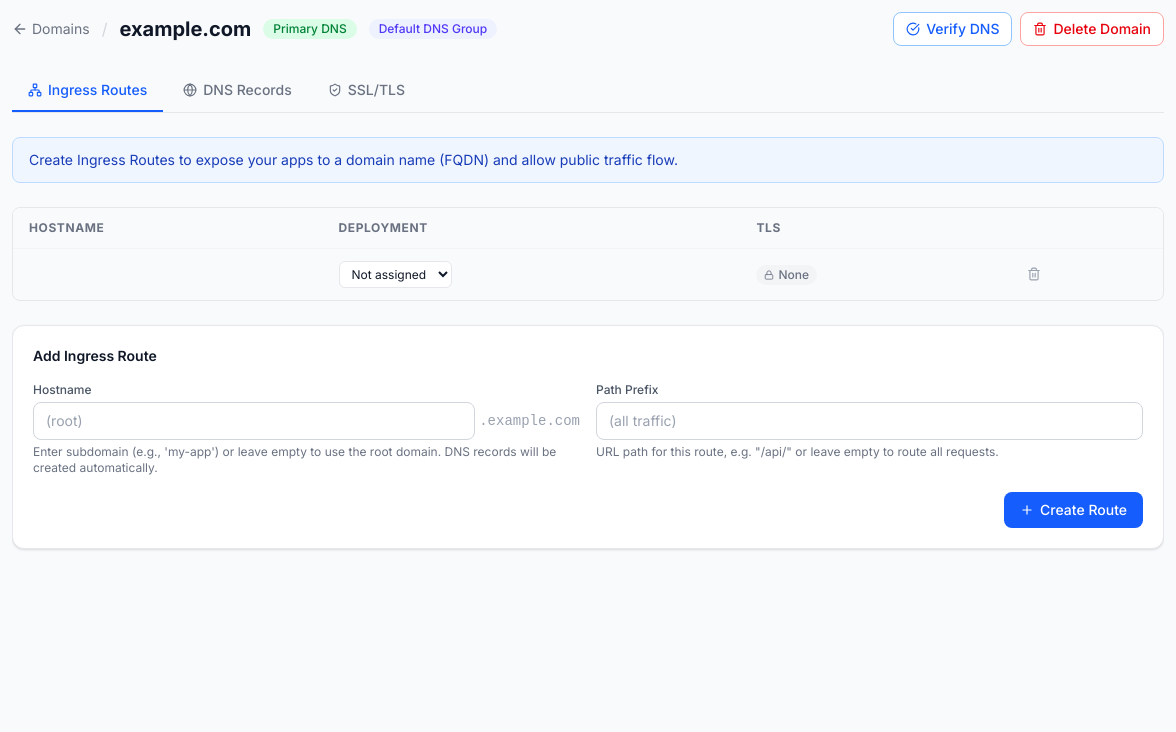
Test: Client DNS tab › shows add form on button click (primary mode)
Click the button with test id "tab-dns": (238, 91) 167,70 -> 308,112
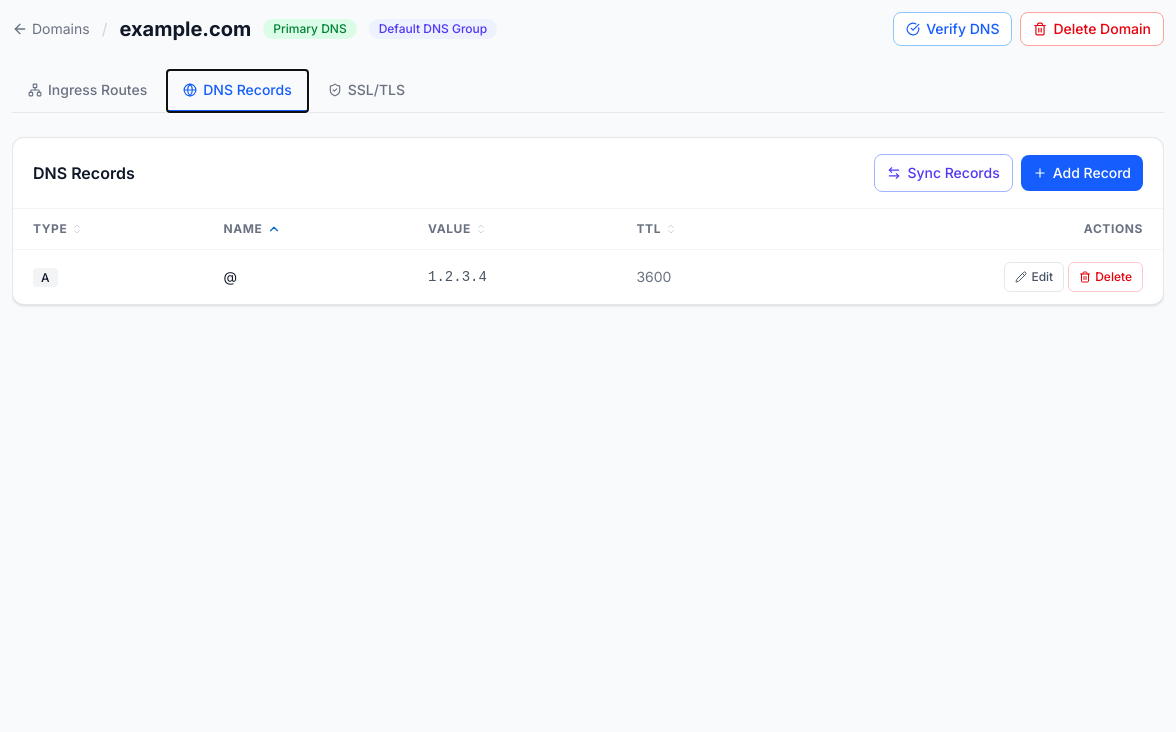
Now the button with test id "add-dns-record-button" is shown
Click the button with test id "add-dns-record-button": (1082, 173) 1021,155 -> 1143,191
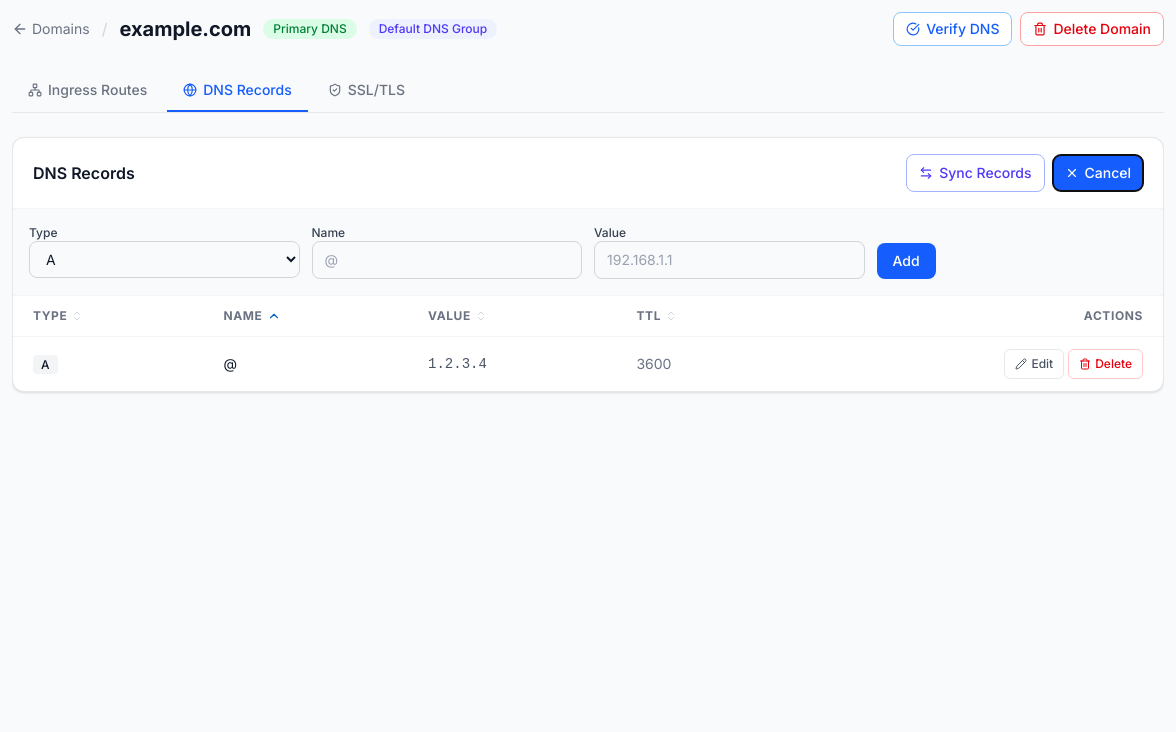
Now the form with test id "dns-record-form" is shown, box 13,209 -> 1163,296
